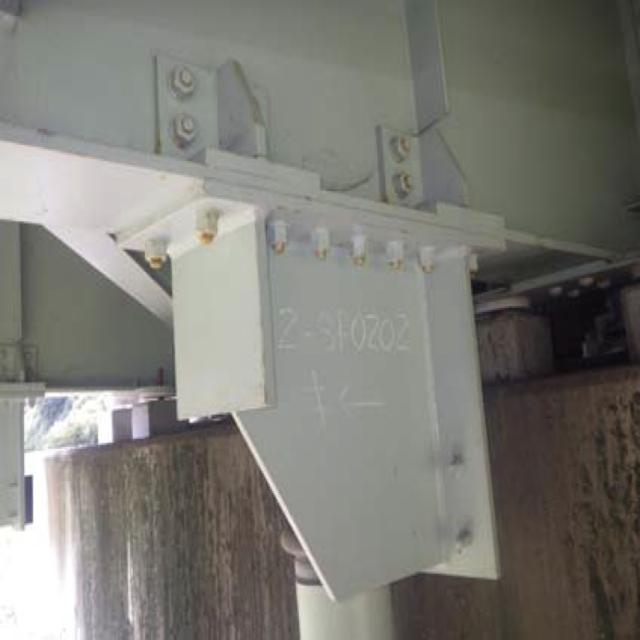corrosion: (274, 233, 452, 281), (183, 214, 226, 260)
